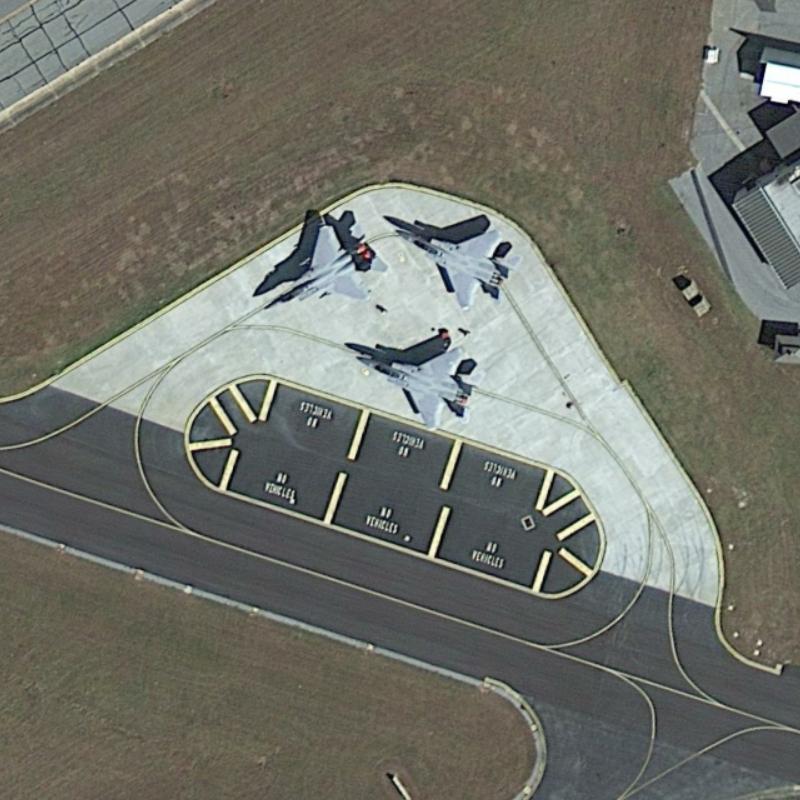A13: (255, 213, 392, 320), (348, 336, 482, 434), (385, 216, 515, 314)
